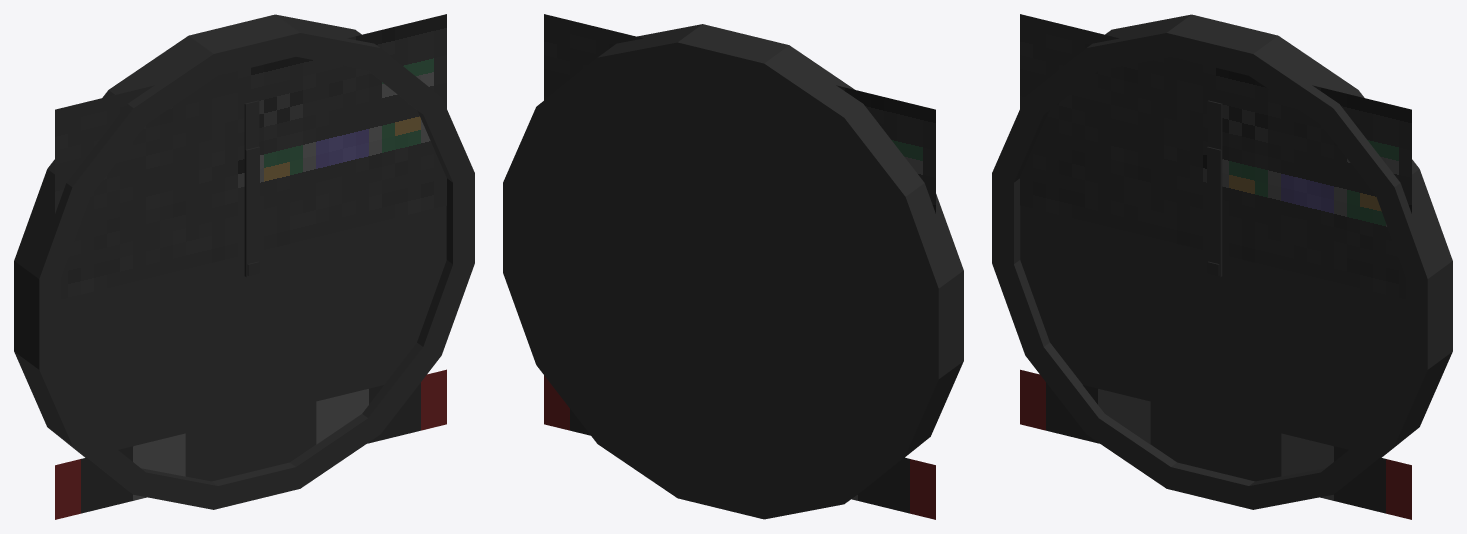
File: clockdecor.obj
The picture shows the model from 3 angles, left to right: view 1: azimuth 30°, elevation 25°; view 2: azimuth 150°, elevation 25°; view 3: azimuth 330°, elevation 25°; orthographic projection.
Parts seen in each view (by area): view 1: hexadecagon, hour, minute; view 2: hexadecagon; view 3: hexadecagon, hour, minute.
Part boxes in pixels (left/top/right/bottom): hexadecagon: left=14, top=14, right=474, bottom=519; hour: left=245, top=146, right=259, bottom=277; minute: left=244, top=100, right=259, bottom=276; hexadecagon: left=503, top=14, right=963, bottom=519; hexadecagon: left=992, top=14, right=1452, bottom=519; hour: left=1207, top=146, right=1221, bottom=277; minute: left=1207, top=100, right=1222, bottom=276.
Bounding box in the file's own units: 0.625 × 0.625 × 0.0625.
